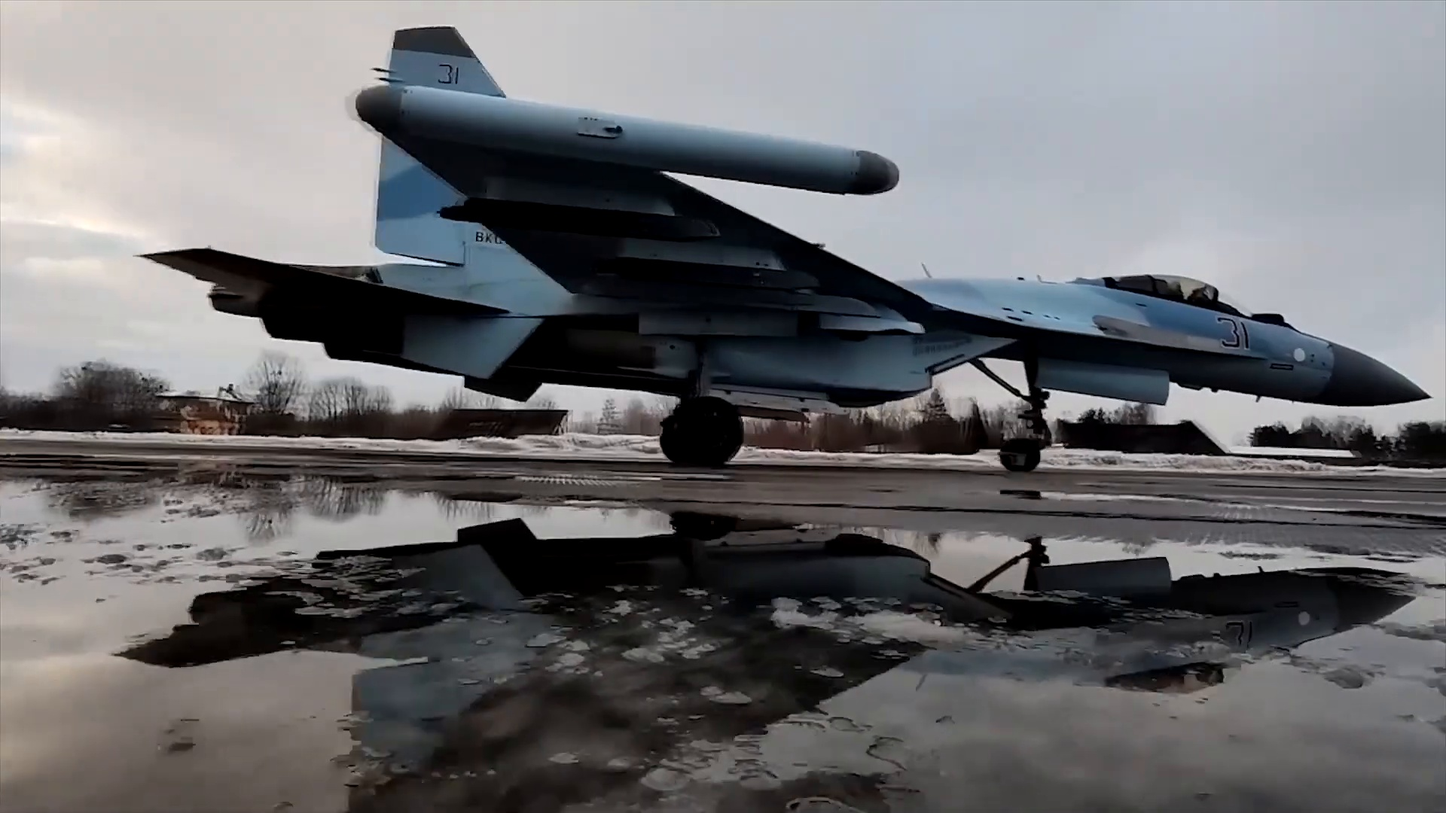Su35: (133, 25, 1433, 472)
